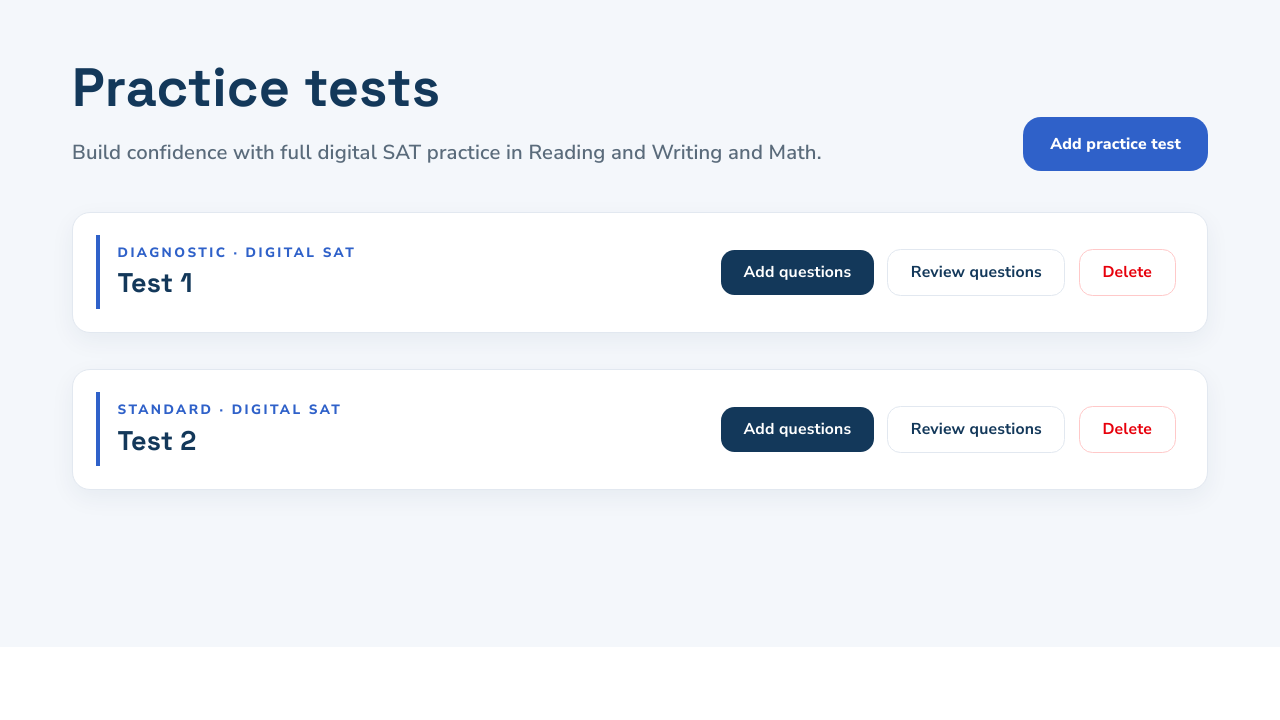
PracticeTestsList › shows error above tests when deleting fails
Check: the heading "Test 1" is shown, box [118,266,193,300]
Click the button "Delete" in the row of "diagnostic" at (1127, 272), box [1079,249,1176,296]
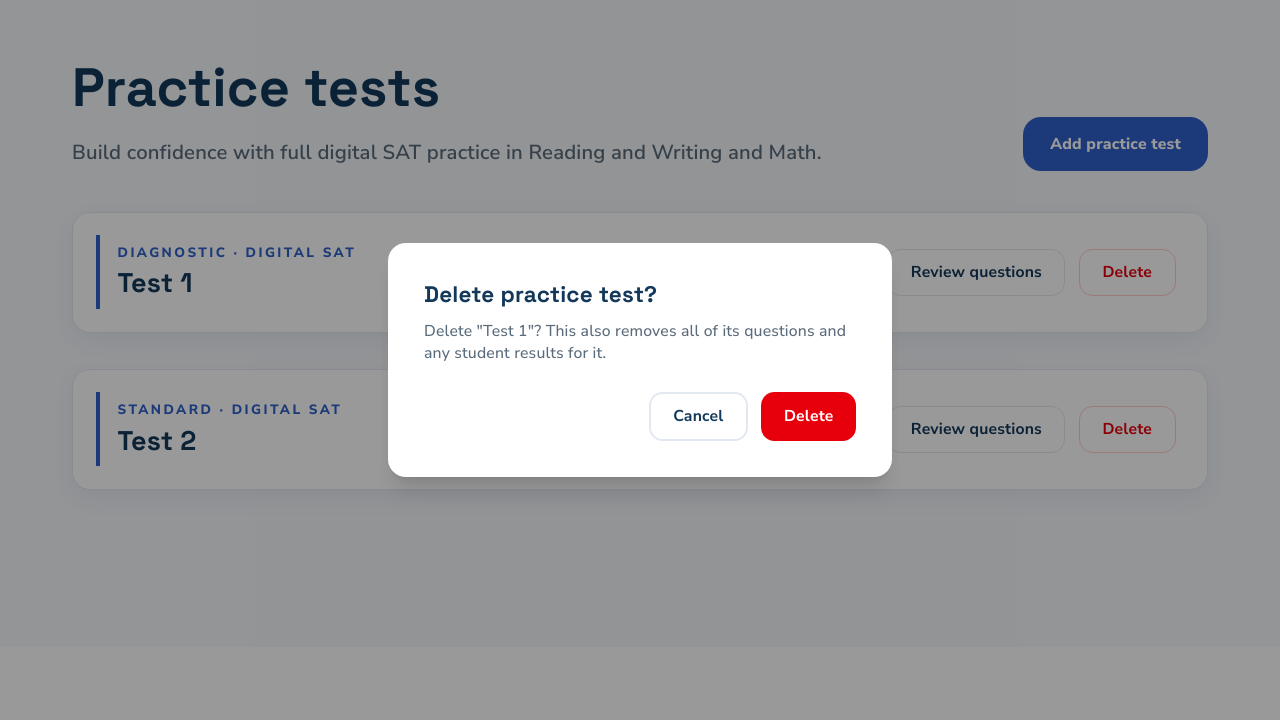
Click the button "Delete" at (809, 416), box [761,392,856,441]
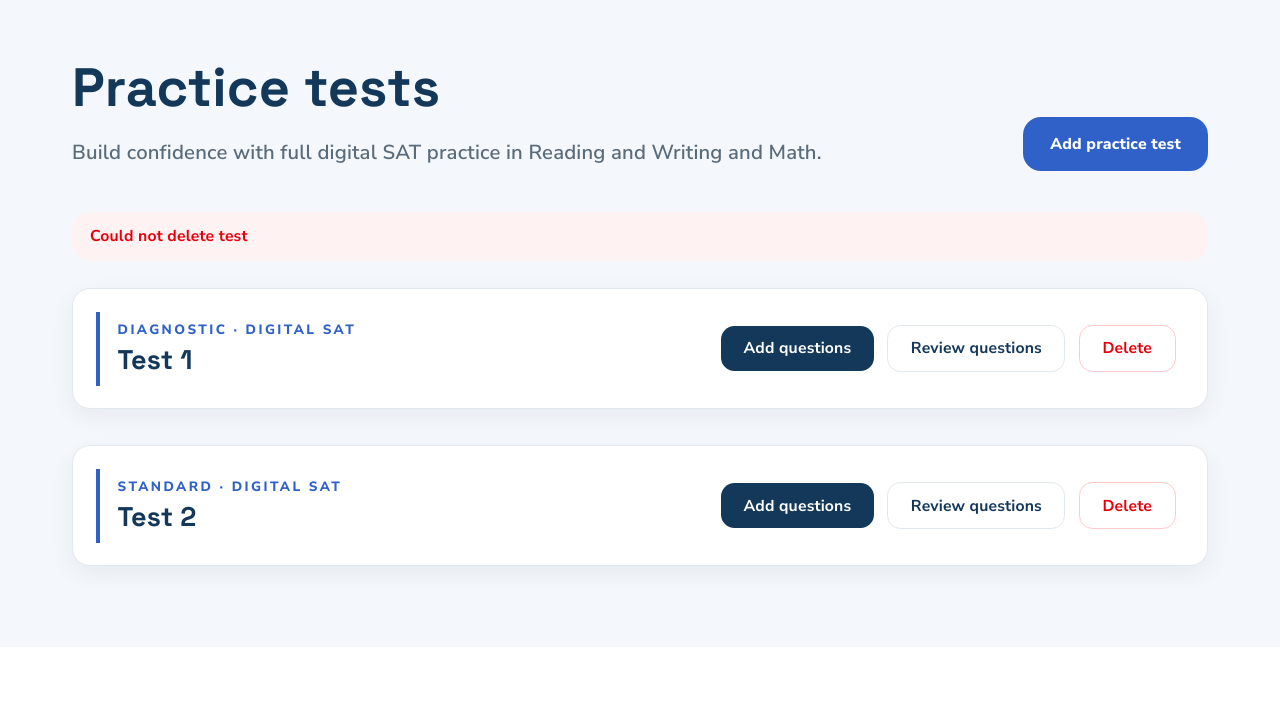
Check: the button "Delete" in the row of "diagnostic" is enabled, box [1079,325,1176,372]
Check: the text "Could not delete test" is shown, box [72,212,1208,261]
